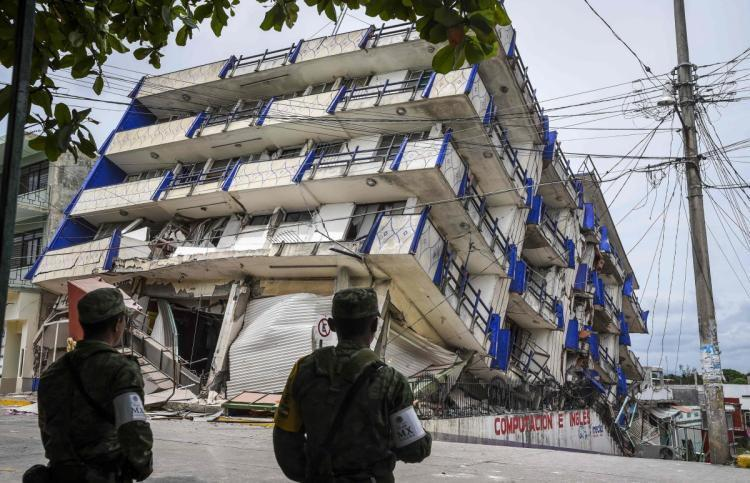destroyed: (42, 40, 656, 427)
